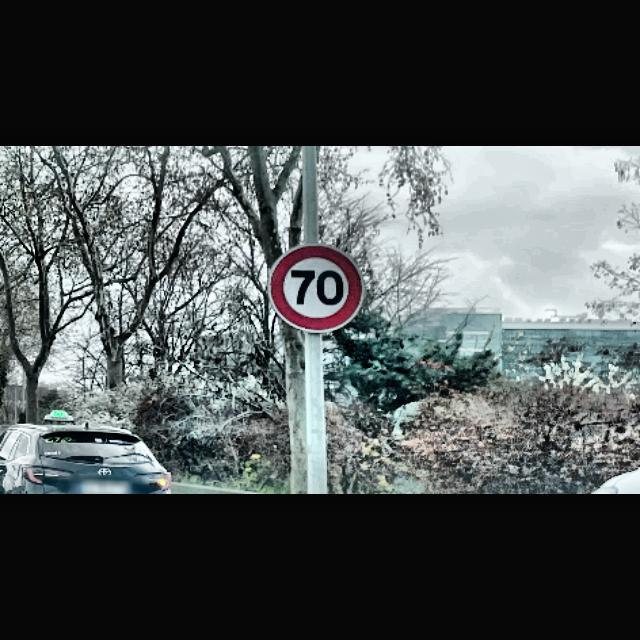speed_70: (267, 244, 363, 330)
